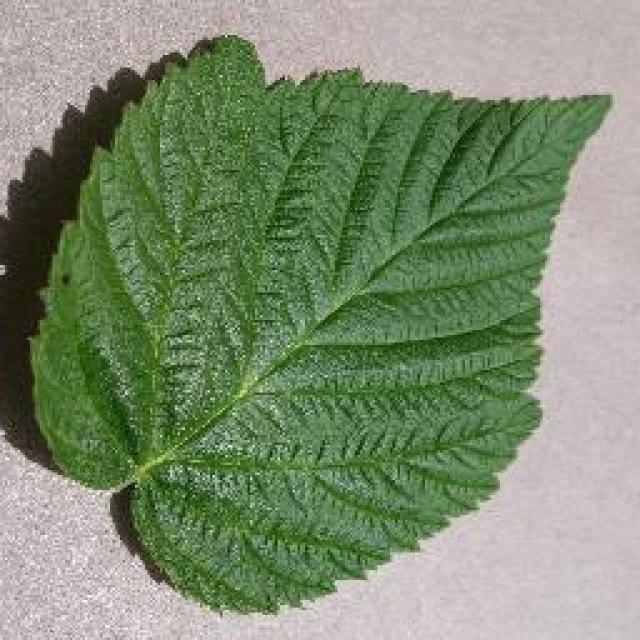Ras_healthy: (56, 69, 529, 571)
